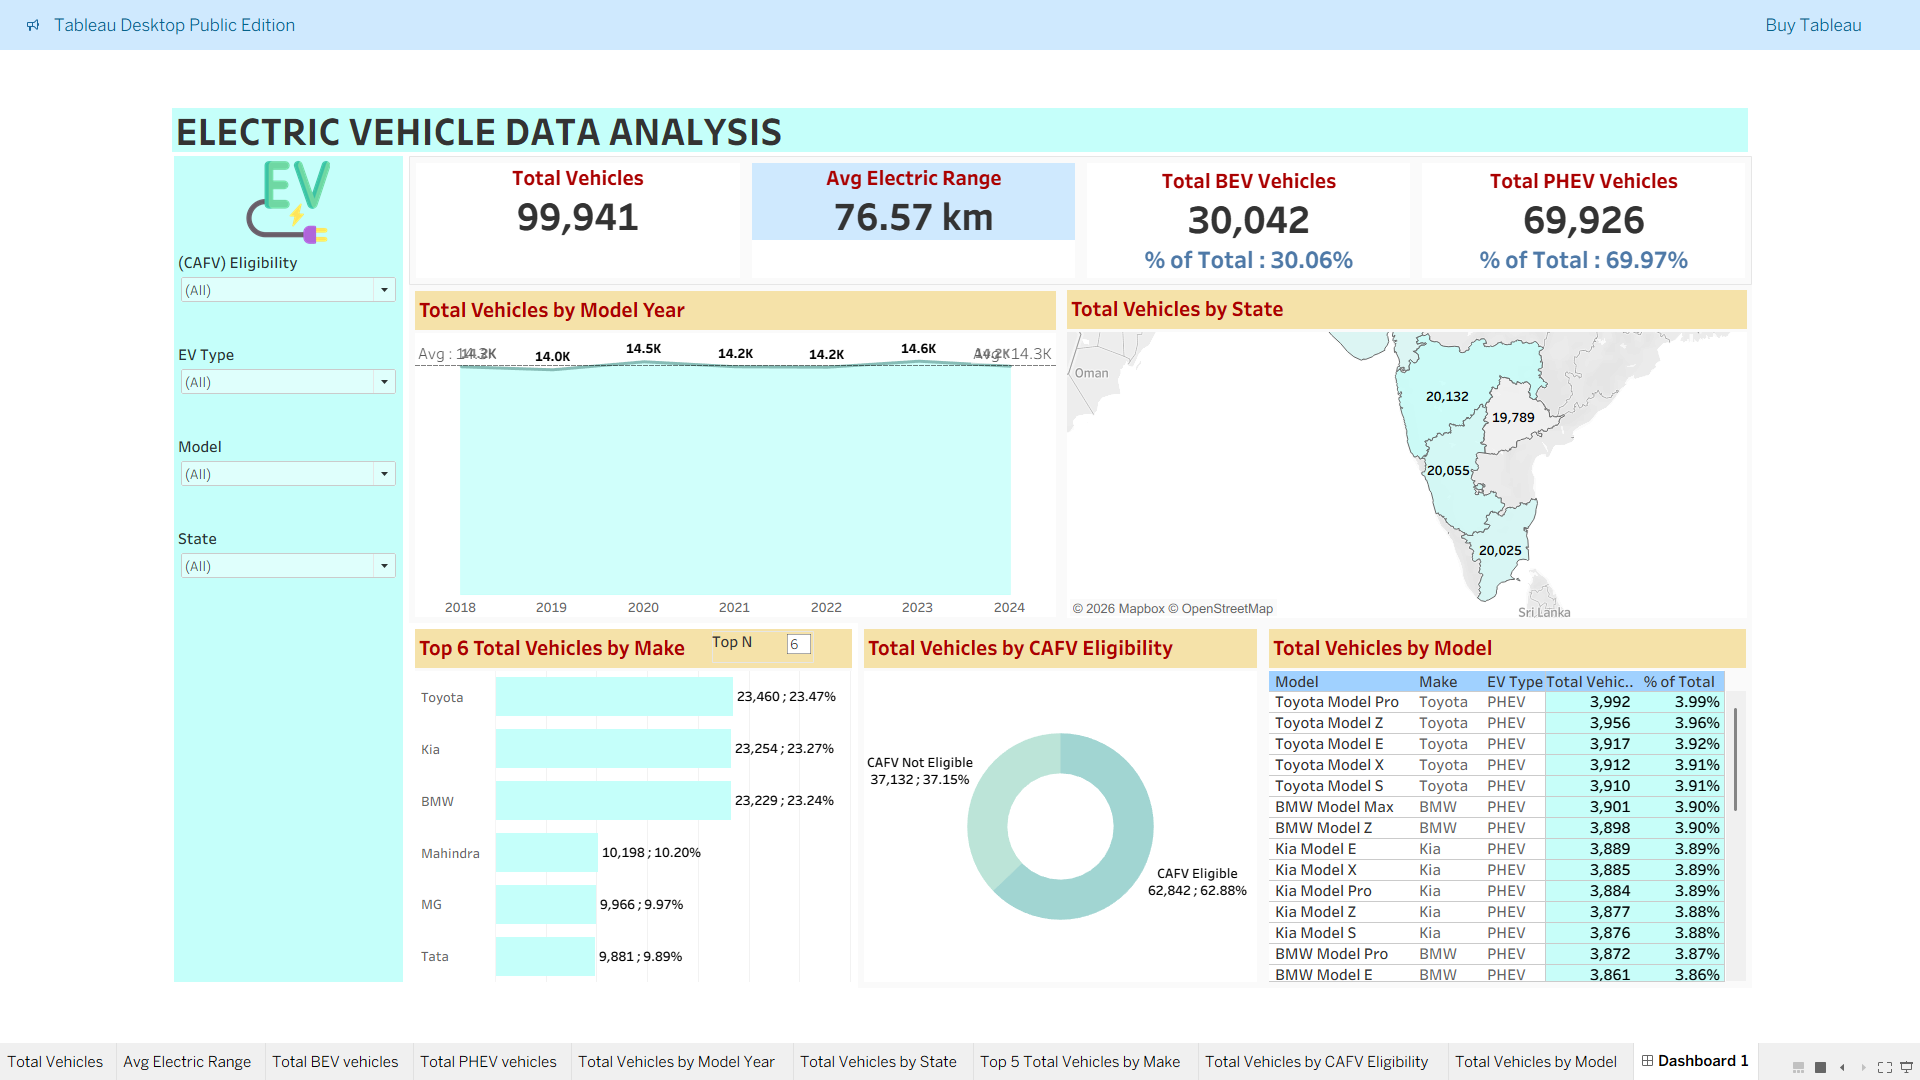

Layout of this report page (visuals, bound fields, positions):
{"tool":"tableau","page":{"name":"Dashboard 1","canvas":[1600,900],"ordinal":0},"visuals":[{"type":"title","box":[8,8,1584,52]},{"type":"image","param":"C:/Users/User/Pictures/6944173.png","box":[14,60,229,92]},{"type":"worksheet","title":"Total Vehicles","mark":"Automatic","box":[250,61,336,127]},{"type":"worksheet","title":"Avg Electric Range","mark":"Automatic","box":[586,61,335,127]},{"type":"worksheet","title":"Total BEV vehicles","mark":"Automatic","box":[921,61,335,127]},{"type":"worksheet","title":"Total PHEV vehicles","mark":"Automatic","box":[1256,61,335,127]},{"type":"filter","title":"Total Vehicles by Model Year","param":"[federated.1e1idie0zp5s3m1bj8mei1ep6dsa].[none:Clean Alternative Fuel Vehicle (C","box":[14,152,229,92]},{"type":"worksheet","title":"Total Vehicles by Model Year","mark":"Area","rows":["Calculation_1619342240587776","Calculation_1619342240587776"],"cols":["Model Year"],"box":[249,189,653,338]},{"type":"worksheet","title":"Total Vehicles by State","mark":"Multipolygon","box":[902,189,690,338]},{"type":"filter","title":"Total Vehicles by Model Year","param":"[federated.1e1idie0zp5s3m1bj8mei1ep6dsa].[none:Electric Vehicle Type:nk]","box":[14,244,229,92]},{"type":"filter","title":"Total Vehicles by Model Year","param":"[federated.1e1idie0zp5s3m1bj8mei1ep6dsa].[none:Model:nk]","box":[14,336,229,92]},{"type":"filter","title":"Total Vehicles by Model Year","param":"[federated.1e1idie0zp5s3m1bj8mei1ep6dsa].[none:State:nk]","box":[14,428,229,92]},{"type":"blank","box":[14,520,229,92]},{"type":"worksheet","title":"Top 5 Total Vehicles by Make","mark":"Automatic","rows":["Make"],"cols":["Calculation_1619342240587776"],"box":[249,527,449,365]},{"type":"worksheet","title":"Total Vehicles by CAFV Eligibility","mark":"Pie","rows":["Calculation_0763923988606977","Calculation_0763923988606977"],"box":[698,527,405,365]},{"type":"worksheet","title":"Total Vehicles by Model","mark":"Square","rows":["Model","Make","Electric Vehicle Type"],"box":[1103,527,489,365]},{"type":"parameter","param":"[Parameters].[Parameter 1]","box":[552,535,102,32]},{"type":"blank","box":[14,612,229,92]},{"type":"blank","box":[14,704,229,91]},{"type":"blank","box":[14,795,229,91]}]}

Visuals, with their boxes on the page's 1600x900 design canvas (x1, y1, x2, y2). These are canvas units, not pixel positions in the 1920x1080 screenshot, which may show the page scaled, cropped or inside an application window:
title: BBox(8, 8, 1592, 60)
image: BBox(14, 60, 243, 152)
"Total Vehicles" worksheet: BBox(250, 61, 586, 188)
"Avg Electric Range" worksheet: BBox(586, 61, 921, 188)
"Total BEV vehicles" worksheet: BBox(921, 61, 1256, 188)
"Total PHEV vehicles" worksheet: BBox(1256, 61, 1591, 188)
"Total Vehicles by Model Year" filter: BBox(14, 152, 243, 244)
"Total Vehicles by Model Year" worksheet (Area marks): BBox(249, 189, 902, 527)
"Total Vehicles by State" worksheet (Multipolygon marks): BBox(902, 189, 1592, 527)
"Total Vehicles by Model Year" filter: BBox(14, 244, 243, 336)
"Total Vehicles by Model Year" filter: BBox(14, 336, 243, 428)
"Total Vehicles by Model Year" filter: BBox(14, 428, 243, 520)
blank: BBox(14, 520, 243, 612)
"Top 5 Total Vehicles by Make" worksheet: BBox(249, 527, 698, 892)
"Total Vehicles by CAFV Eligibility" worksheet (Pie marks): BBox(698, 527, 1103, 892)
"Total Vehicles by Model" worksheet (Square marks): BBox(1103, 527, 1592, 892)
parameter: BBox(552, 535, 654, 567)
blank: BBox(14, 612, 243, 704)
blank: BBox(14, 704, 243, 795)
blank: BBox(14, 795, 243, 886)
